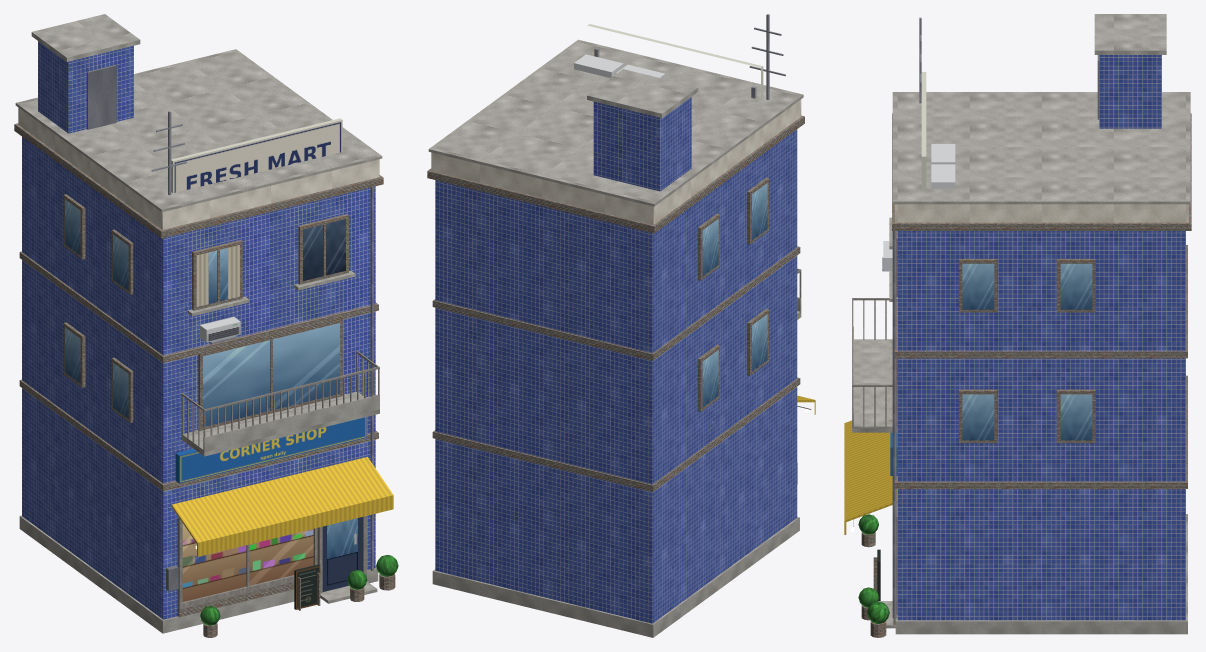
The model's file is b1_blue_corner_shop.glb.
3 views of the same model, side by side, from view 1: azimuth 30°, elevation 25°; view 2: azimuth 150°, elevation 25°; view 3: azimuth 270°, elevation 25° (orthographic). The views are drawn at different scales.
Parts seen in each view (by area): view 1: wall, concrete, glass, awning, solid_#efe9da, parapet, solid_#f2efe6, topsign, glass_shop, sign, solid_#25282c, door (+9 smaller); view 2: wall, concrete, solid_#efe9da, parapet, glass, solid_#f2efe6, ac, metal, topsign; view 3: wall, concrete, solid_#efe9da, glass, parapet, awning, solid_#f2efe6, metal, ac, leaf, solid_#25282c, topsign (+1 smaller).
Part boxes in pixels (<box>): wall: <box>22,41,375,619</box>; concrete: <box>15,14,382,633</box>; glass: <box>65,199,339,427</box>; awning: <box>171,457,393,556</box>; solid_#efe9da: <box>14,123,383,617</box>; parapet: <box>18,107,379,229</box>; solid_#f2efe6: <box>63,194,348,430</box>; topsign: <box>171,118,342,193</box>; glass_shop: <box>182,524,313,601</box>; sign: <box>175,417,366,483</box>; solid_#25282c: <box>182,351,379,449</box>; door: <box>322,517,362,591</box>; wall: <box>435,97,797,623</box>; concrete: <box>428,39,803,637</box>; solid_#efe9da: <box>427,115,804,491</box>; parapet: <box>431,99,801,224</box>; glass: <box>702,183,767,407</box>; solid_#f2efe6: <box>698,177,769,411</box>; ac: <box>574,54,665,78</box>; metal: <box>594,14,785,99</box>; topsign: <box>587,24,763,100</box>; wall: <box>897,55,1185,620</box>; concrete: <box>852,14,1190,634</box>; solid_#efe9da: <box>892,113,1191,488</box>; glass: <box>962,263,1092,440</box>; parapet: <box>894,204,1188,222</box>; awning: <box>844,420,897,534</box>; solid_#f2efe6: <box>896,231,1095,443</box>; metal: <box>882,17,921,618</box>; ac: <box>883,144,955,270</box>; leaf: <box>858,514,889,623</box>; solid_#25282c: <box>852,298,897,426</box>; topsign: <box>921,72,926,189</box>.
Size of the model in its own units: 5.61 by 11.9 by 7.23.
25 materials, 25 textured.
